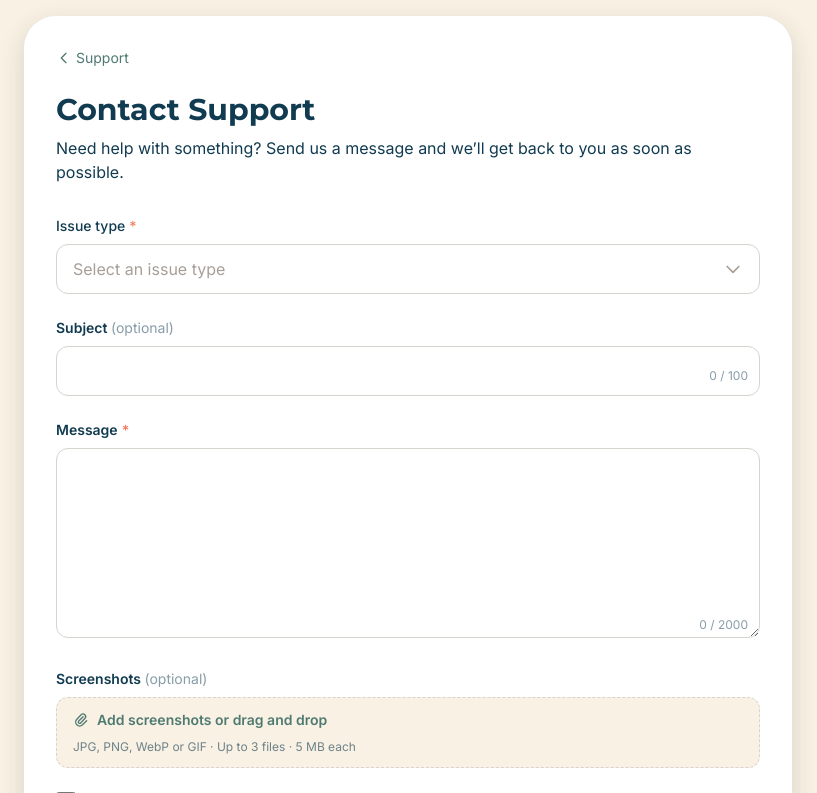
Test: ContactSupport › renders exact copy, fields, and all issue type options
expect the heading "Contact Support" is shown: met, box [56,91,315,128]
expect the text "Need help with something? Send us a message and we’ll get back to you as soon as possible." is shown: met, box [56,138,692,182]
Click the dropdown labelled "Select an issue type" at (408, 269), box [56,244,760,294]
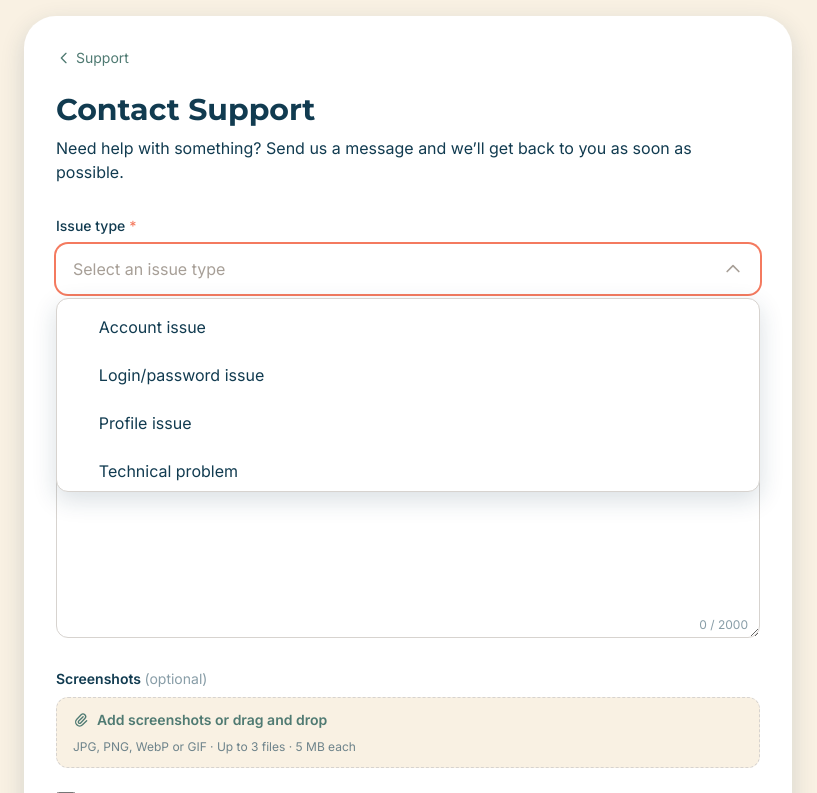
expect the option "Account issue" is shown: met, box [73,317,206,337]
expect the option "Login/password issue" is shown: met, box [73,365,264,385]
expect the option "Profile issue" is shown: met, box [73,413,192,433]
